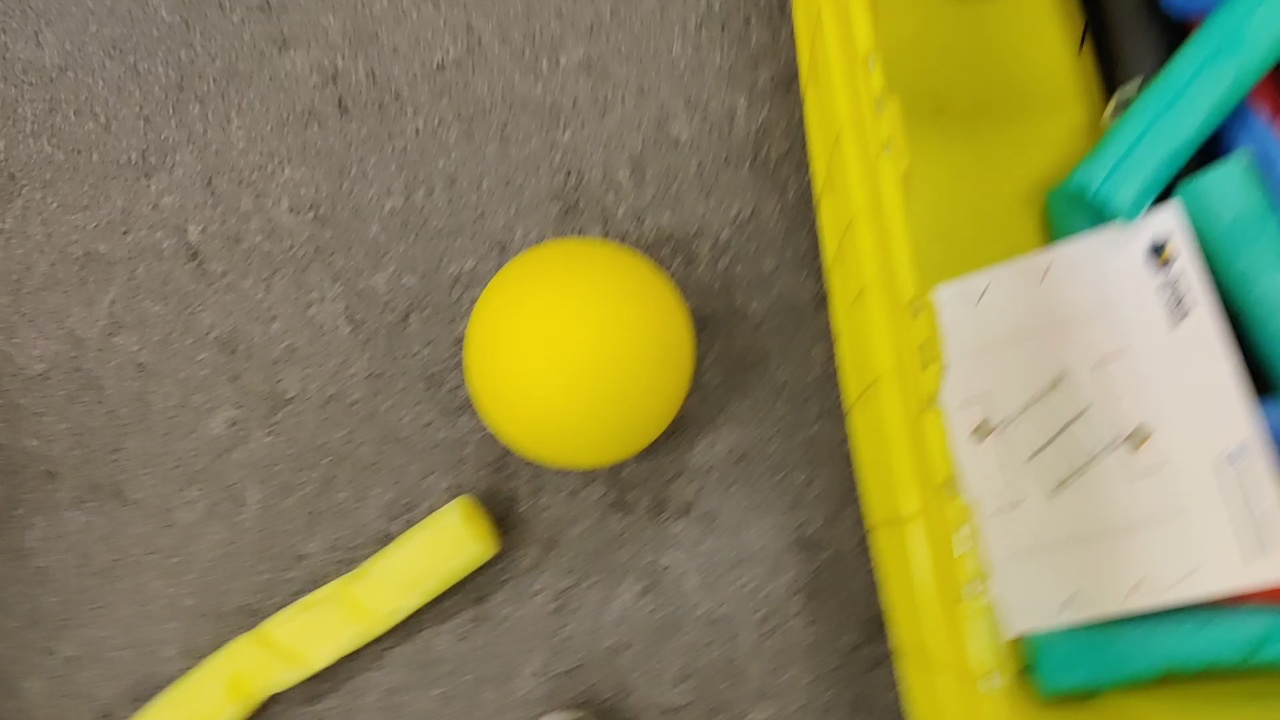Ball: (465, 238, 698, 468)
